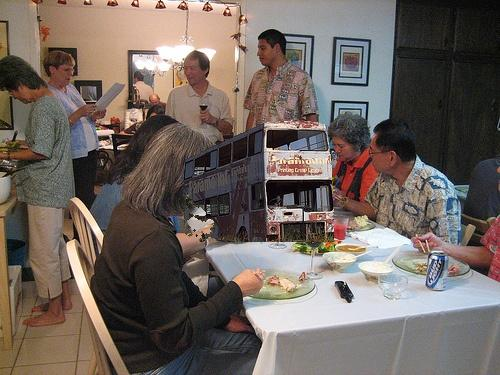tampered: (184, 121, 334, 242)
